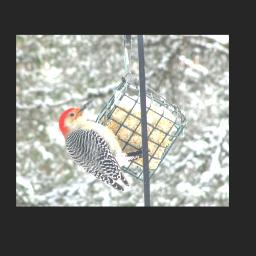Woodpecker: (58, 102, 146, 191)
